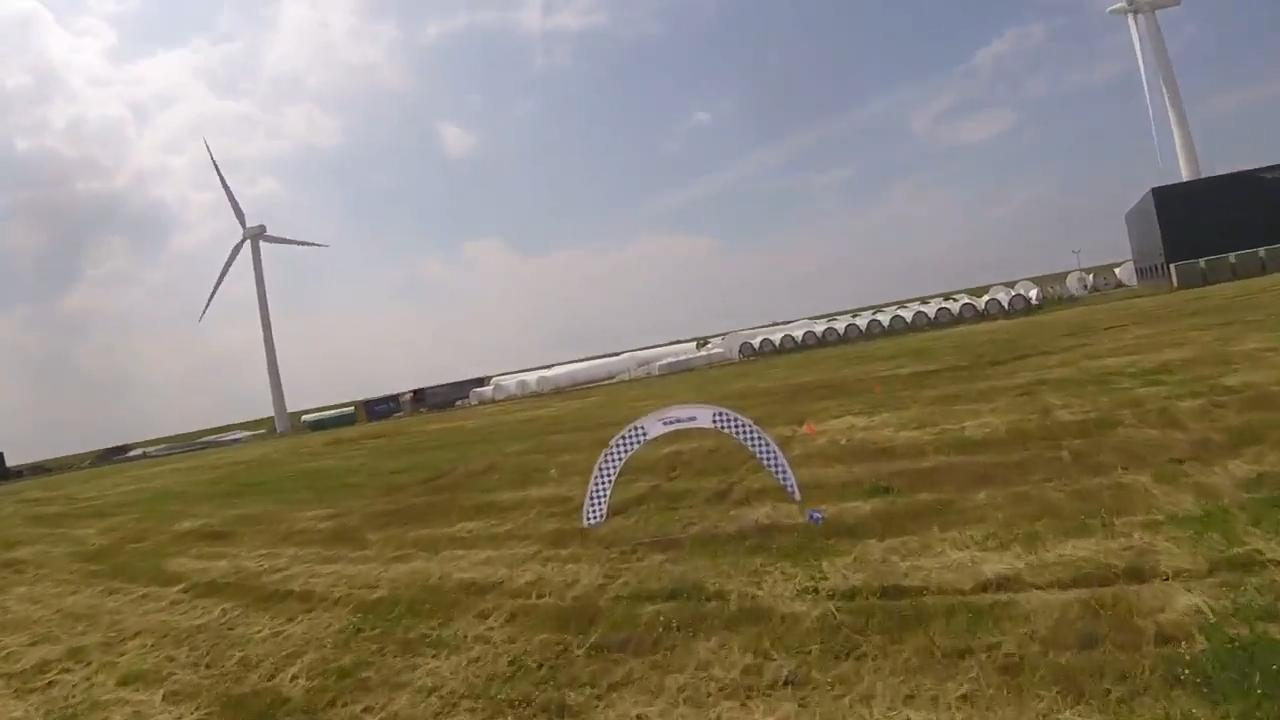gate: (580, 402, 799, 528)
